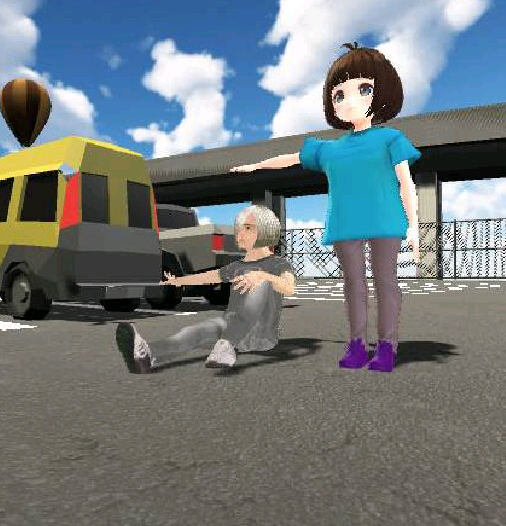doubleP_left: (113, 45, 425, 380)
